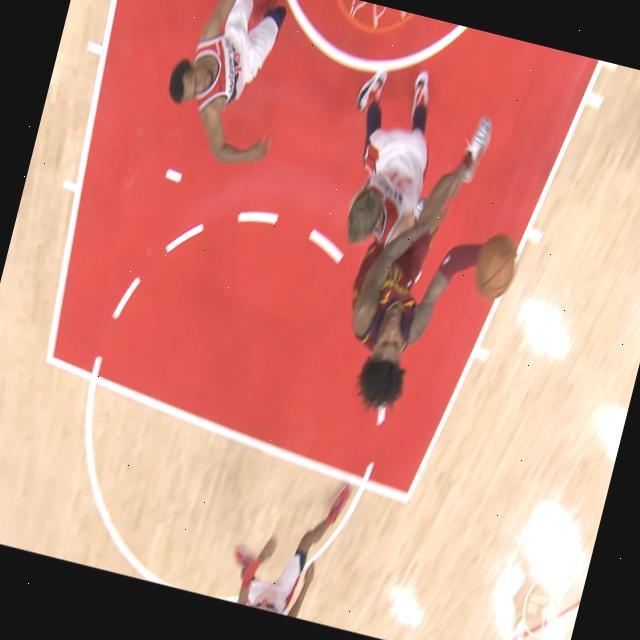foul: (272, 68, 558, 478)
